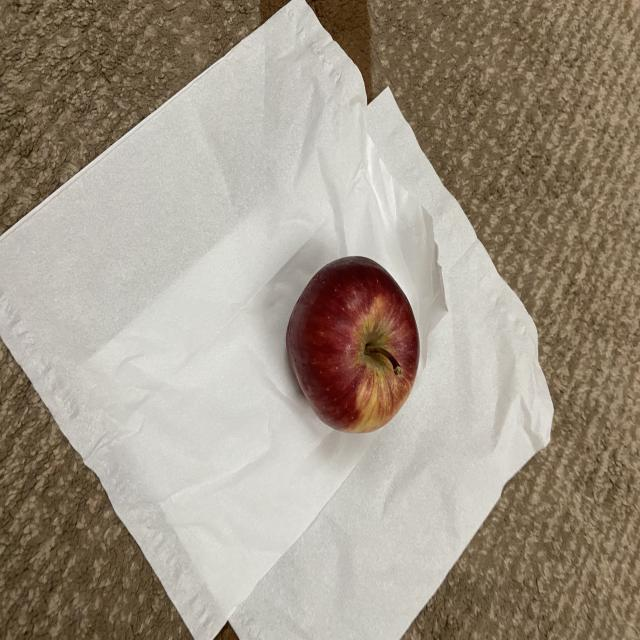apple: (286, 253, 424, 439)
